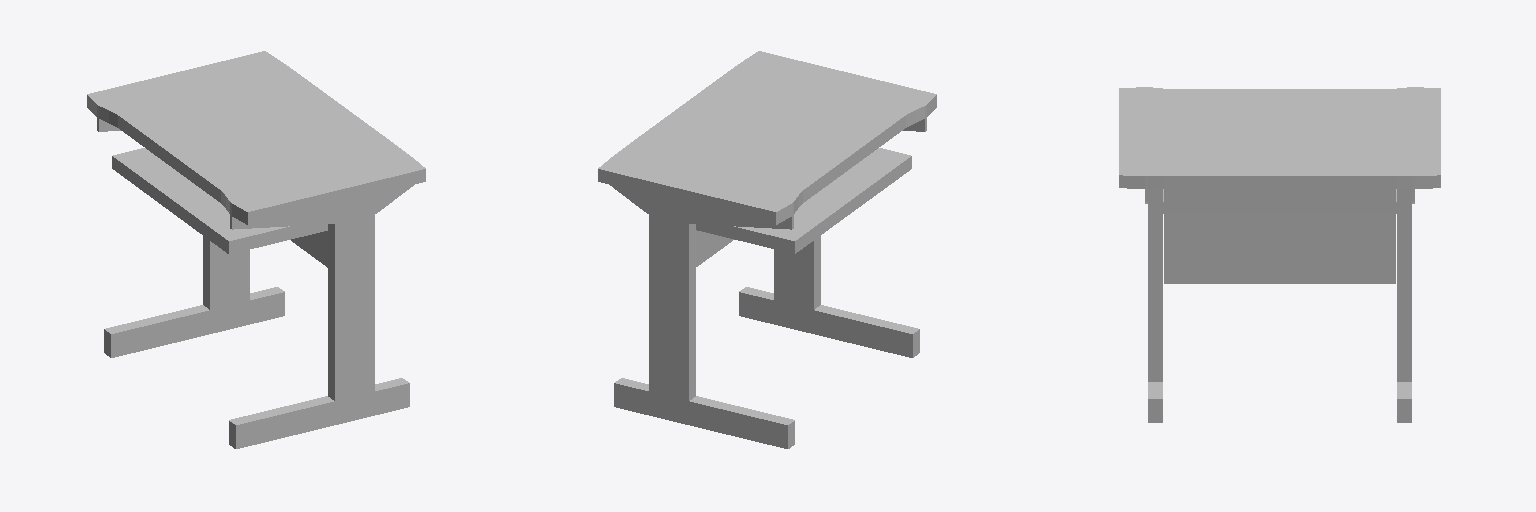
Rendered from Desk.obj.
3 renders of one model, left to right at view 1: azimuth 30°, elevation 25°; view 2: azimuth 150°, elevation 25°; view 3: azimuth 270°, elevation 25°, orthographic.
Visible parts, largest first — view 1: Box002; view 2: Box002; view 3: Box002.
Part boxes in pixels (left/top/right/bottom): Box002: left=87, top=51, right=425, bottom=448; Box002: left=598, top=51, right=936, bottom=448; Box002: left=1119, top=87, right=1440, bottom=422.
Bounding box in the file's own units: 89.41 × 116 × 136.